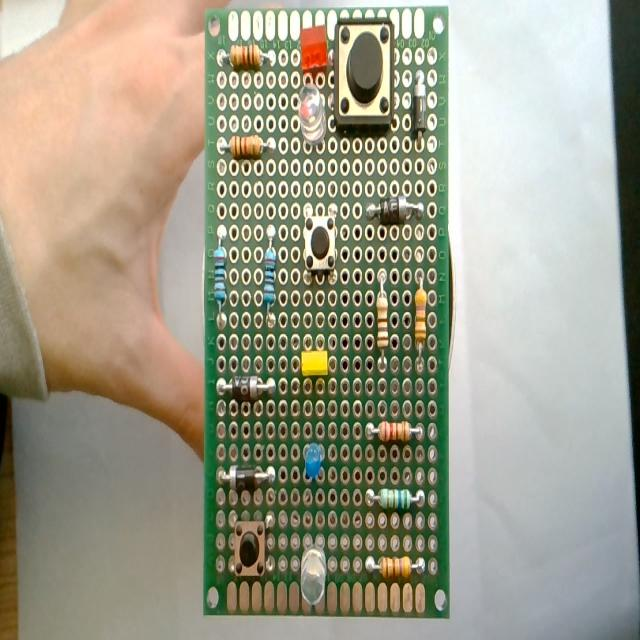diode: (213, 460, 275, 498), (213, 371, 280, 405), (365, 193, 427, 229), (414, 54, 428, 158)
led: (294, 532, 332, 612), (295, 84, 329, 150), (298, 18, 330, 84), (302, 333, 328, 398), (300, 435, 328, 489)
resistor: (359, 415, 427, 450), (215, 36, 277, 74), (364, 483, 428, 519), (373, 266, 393, 377), (364, 550, 429, 584), (215, 130, 279, 164), (262, 220, 281, 332), (213, 218, 231, 327), (412, 262, 428, 375)
switch: (332, 14, 396, 140), (228, 508, 276, 590), (302, 208, 338, 290)
